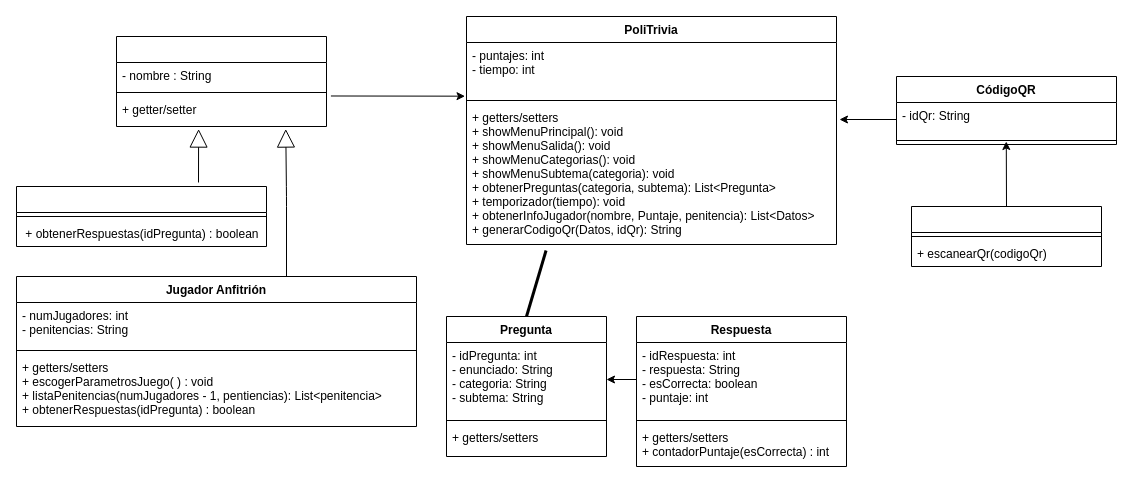
Some shapes in this 1133 by 483 pixel diagram are drawn without their labels. The shapes that lost their labels are listed below. From the top down, each one's box as (x1, y1, x2, y2) in pixels, then its label:
(116, 36, 326, 126): Jugador
(16, 186, 266, 246): Jugador Invitado
(910, 206, 1102, 266): Lector QR
